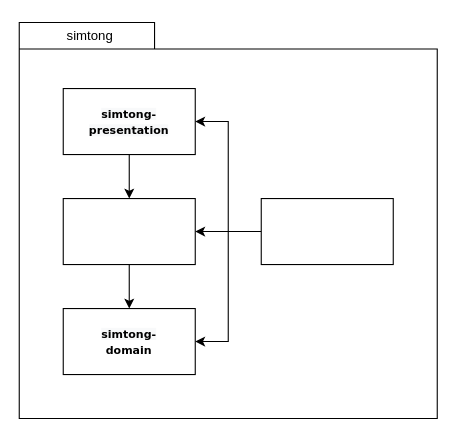
This 457x438 diagram has some shape labels left out. The shapes that lost their labels are listed below. From the top down, each one's centre as x and y in pixels, then its label:
the point at 128,231: simtong- application
the point at 326,231: simtong- infrastructure
